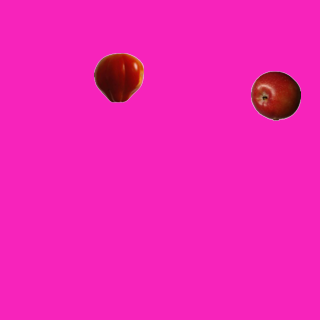Apple Braeburn: (250, 70, 300, 120)
Tomato 1: (93, 52, 143, 102)
